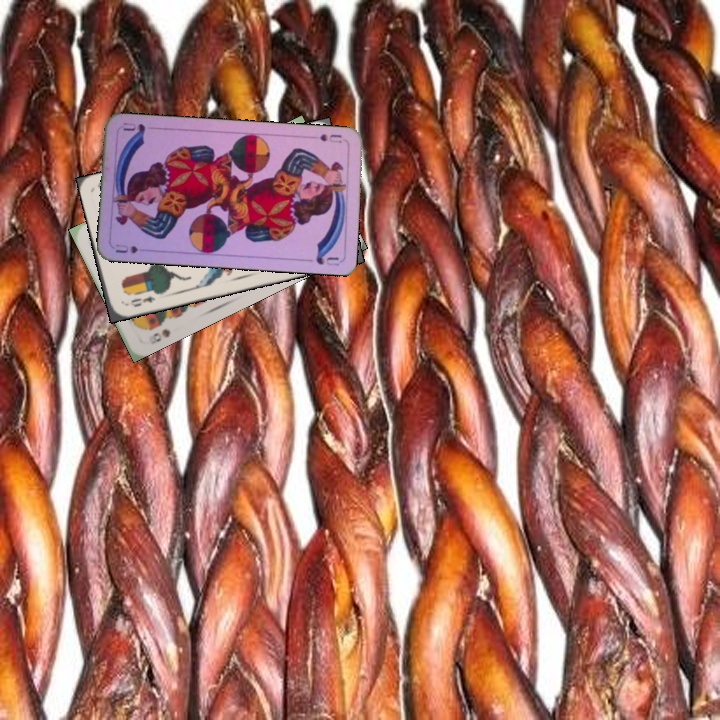EO: (122, 291, 158, 309)
S8: (149, 325, 173, 344)
SU: (111, 240, 152, 256), (307, 130, 344, 145)
